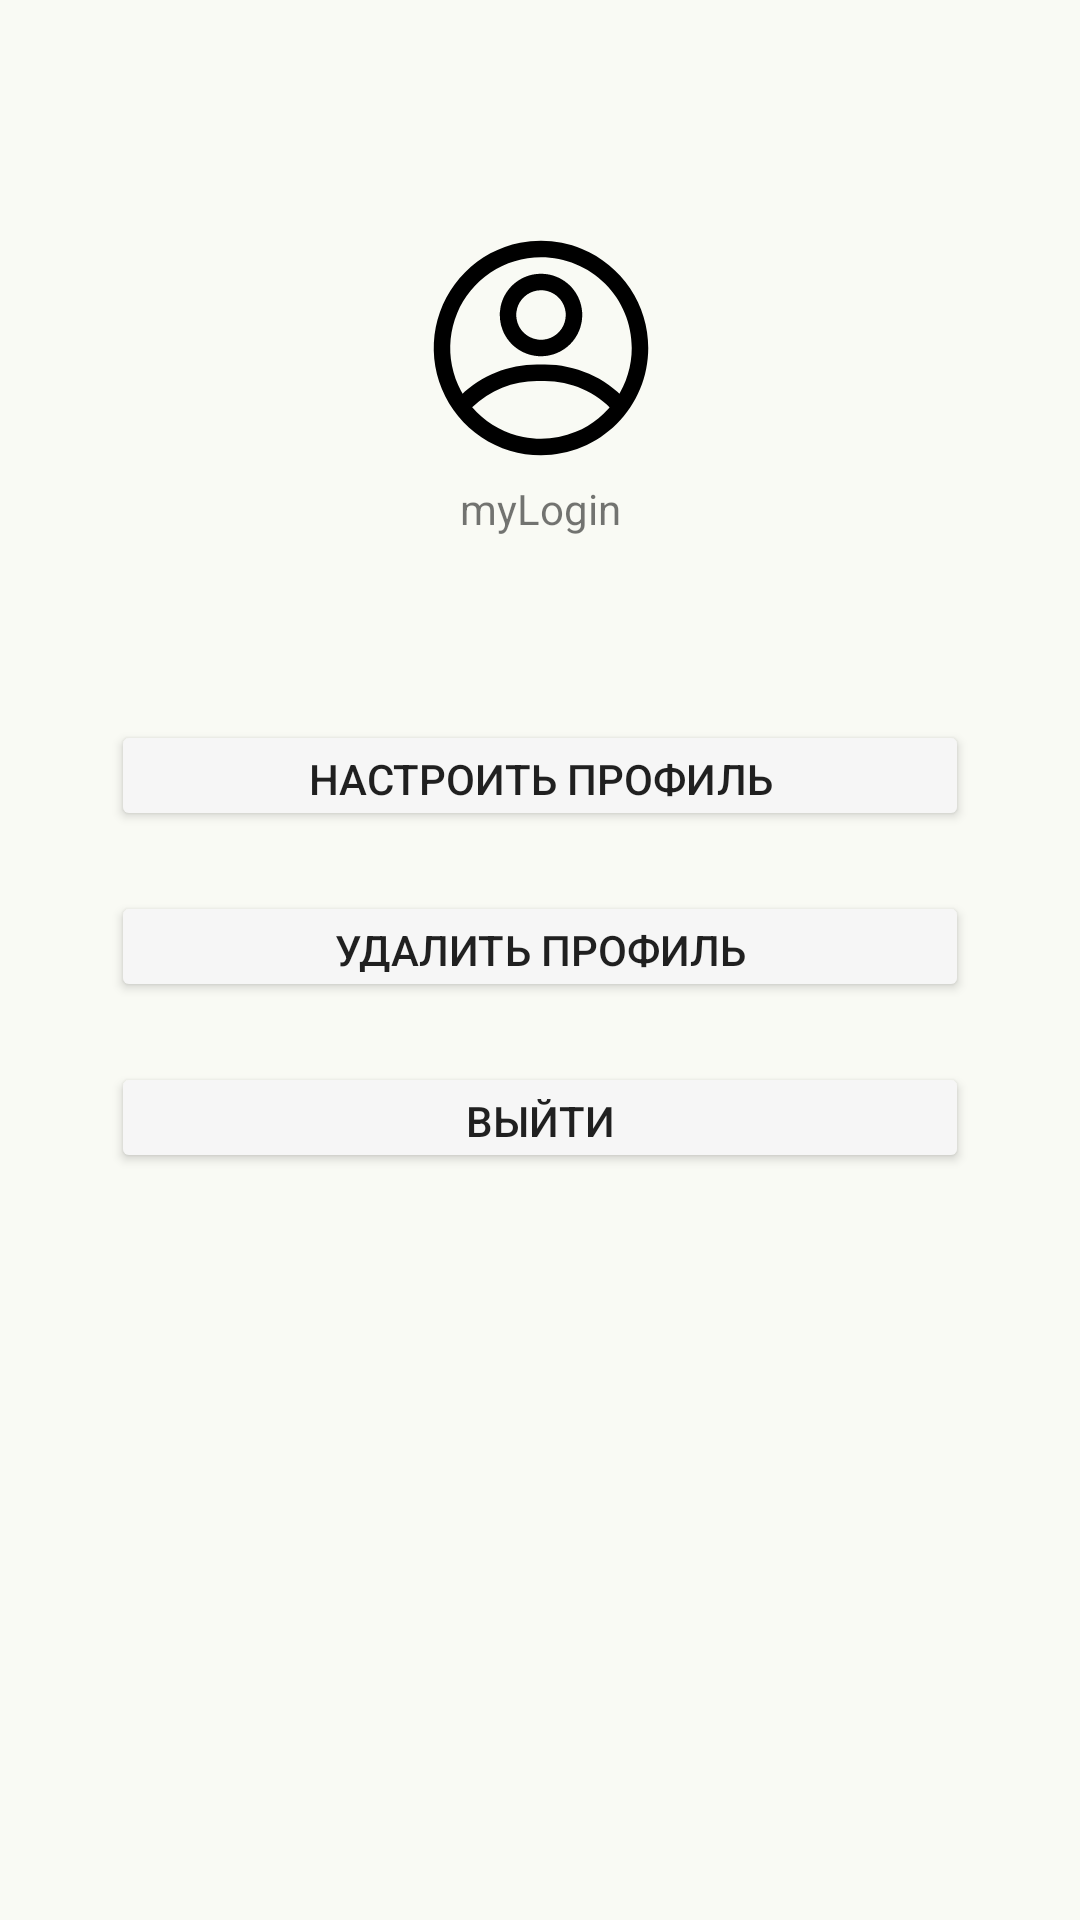

Named icons in this screenshot (1080w x 1920h) and their centers, (x=x, y=y):
profile: (x=541, y=348)
